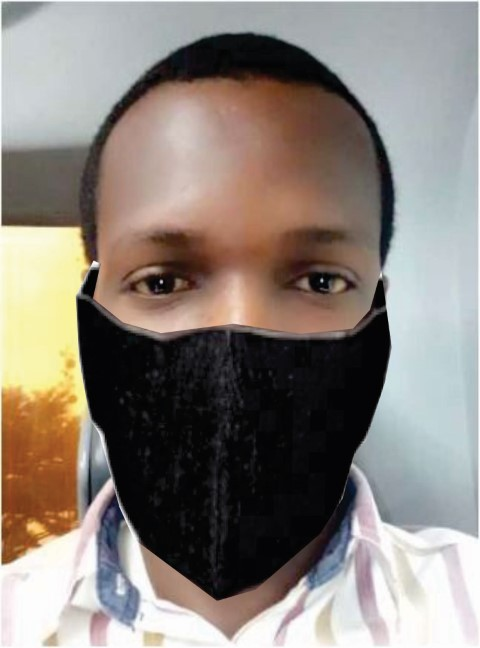with_facemask: (67, 313, 394, 566)
